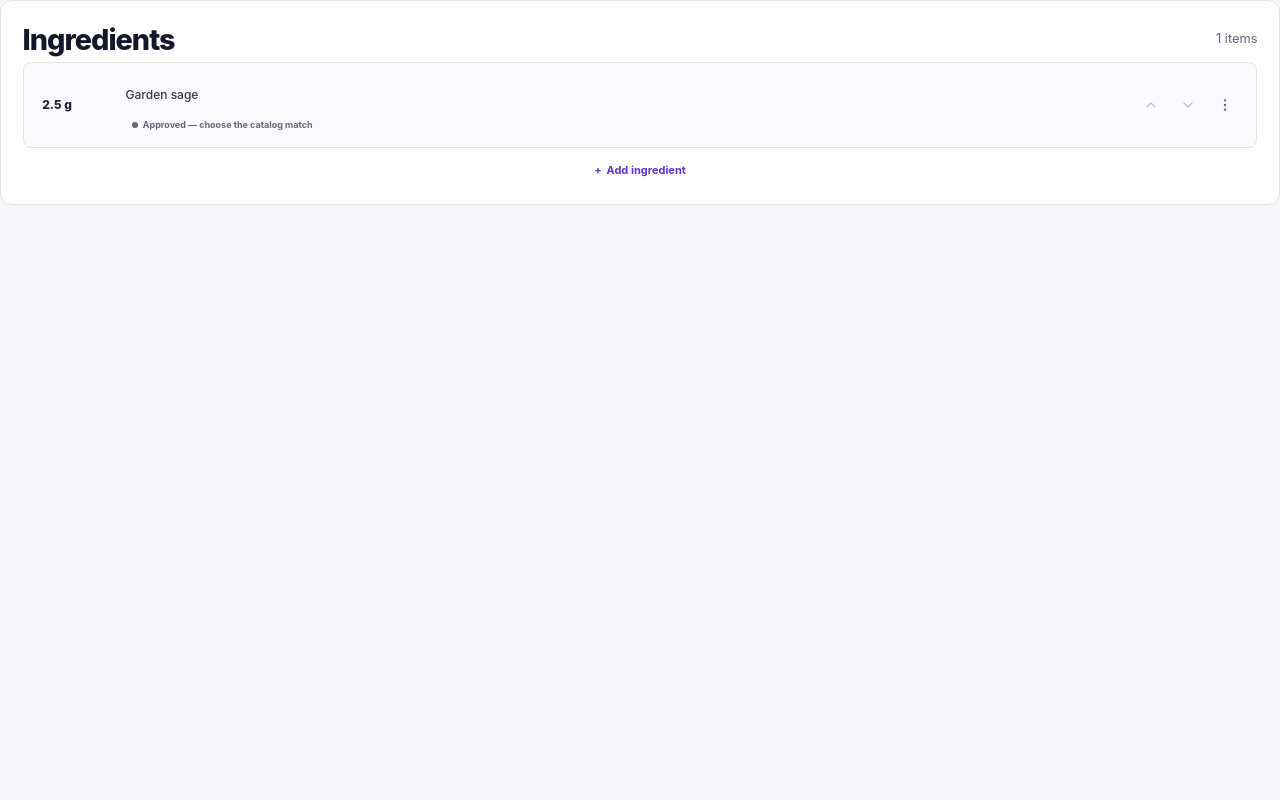
Test: RecipeDraftIngredientsSection › closes the ingredient settings menu with Escape and outside clicks
Click the button named "Ingredient 1 options" at (1225, 105), box [1207,87,1243,123]
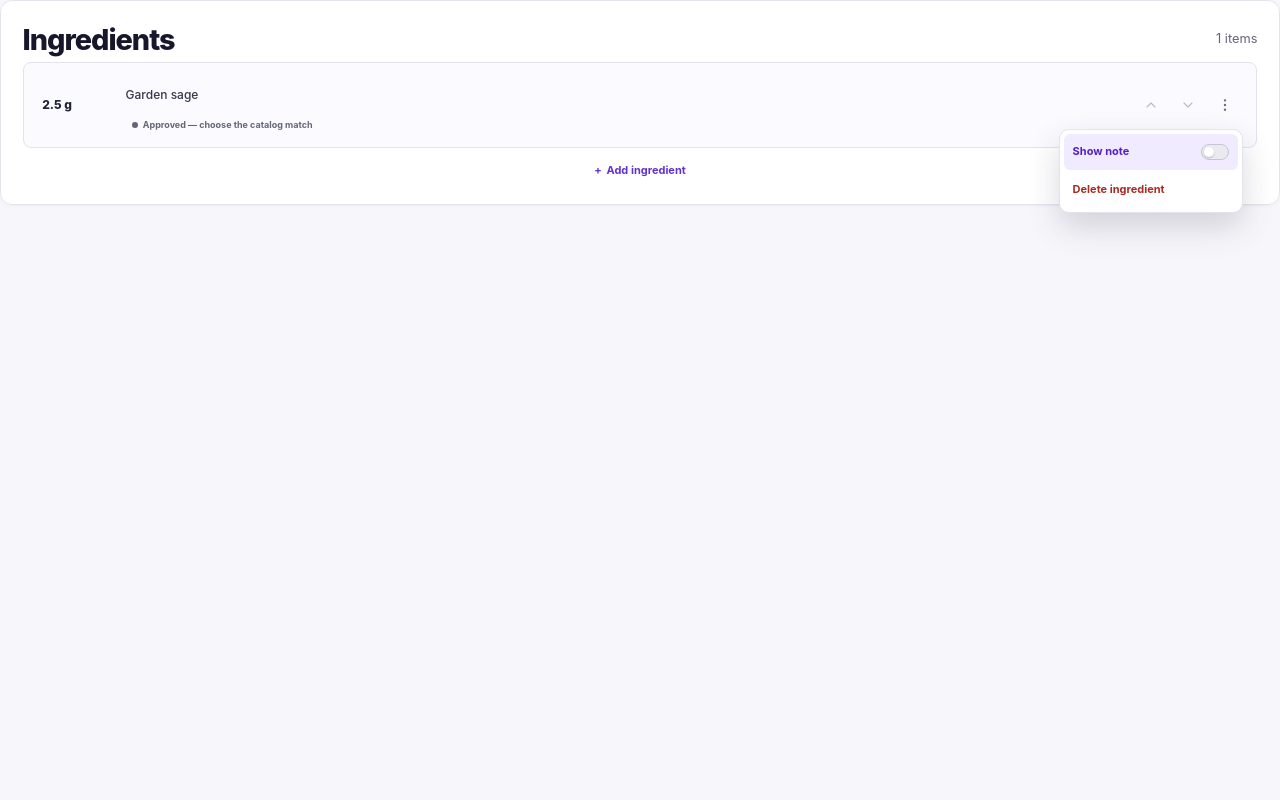
Press Escape
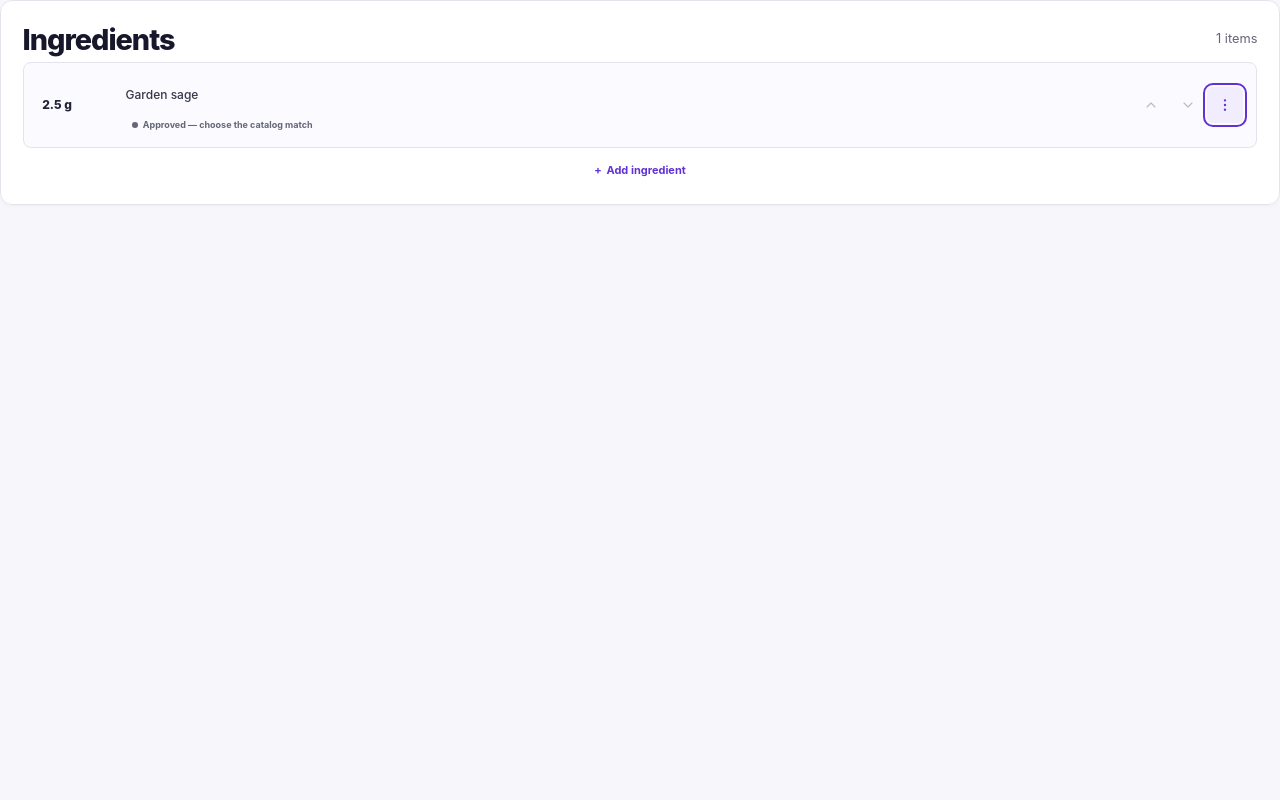
Expected: the menu is gone
Click the button named "Ingredient 1 options" at (1225, 105), box [1207,87,1243,123]
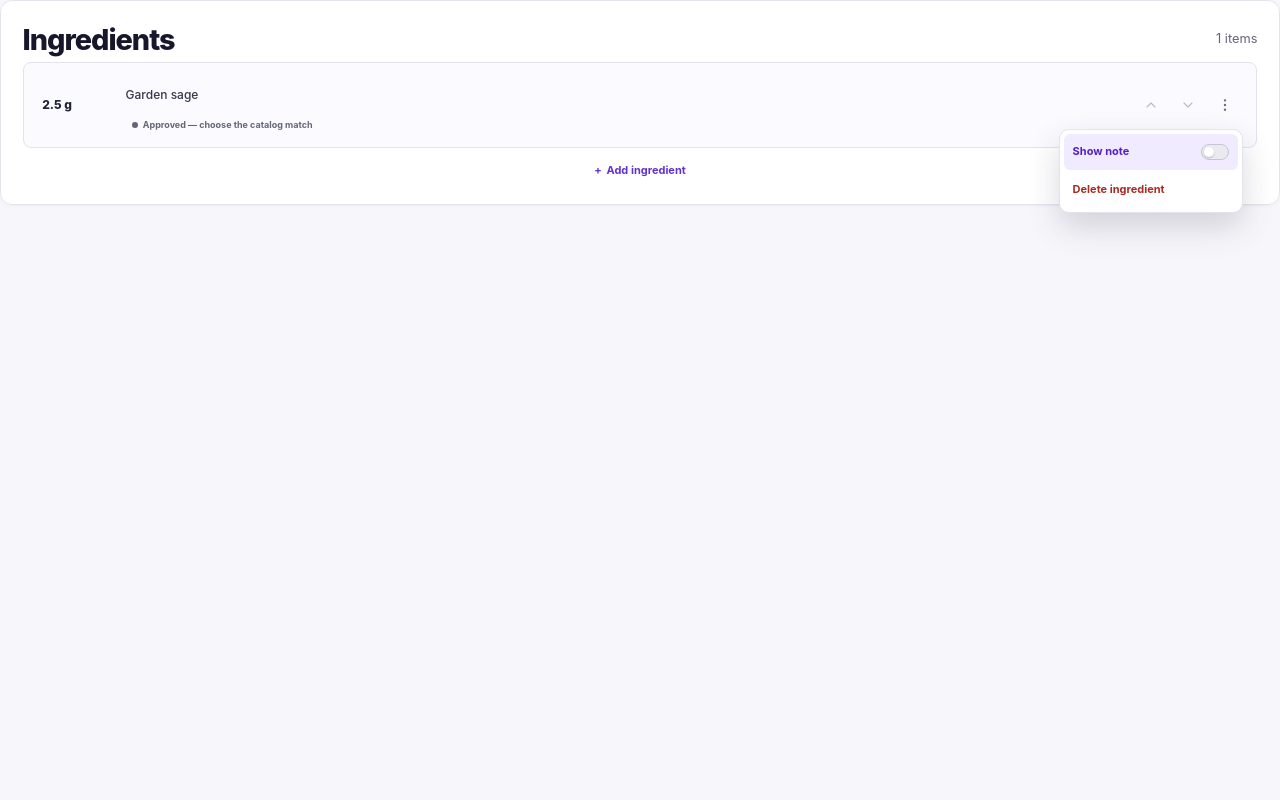
Expected: the menu is shown, [1059,129,1243,213]
Press the mouse on the element that starts with "Ingredients" at (640, 400), box [0,0,1279,799]
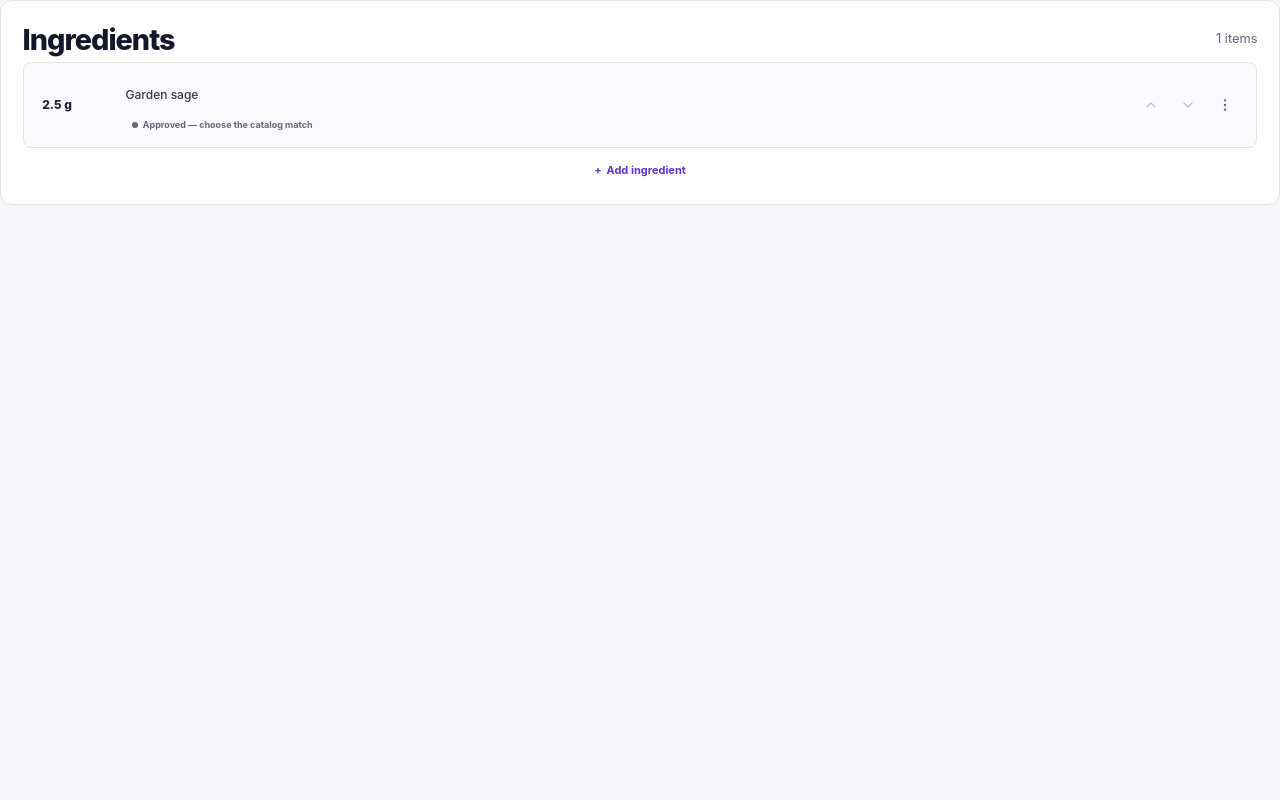
Expected: the menu is gone
